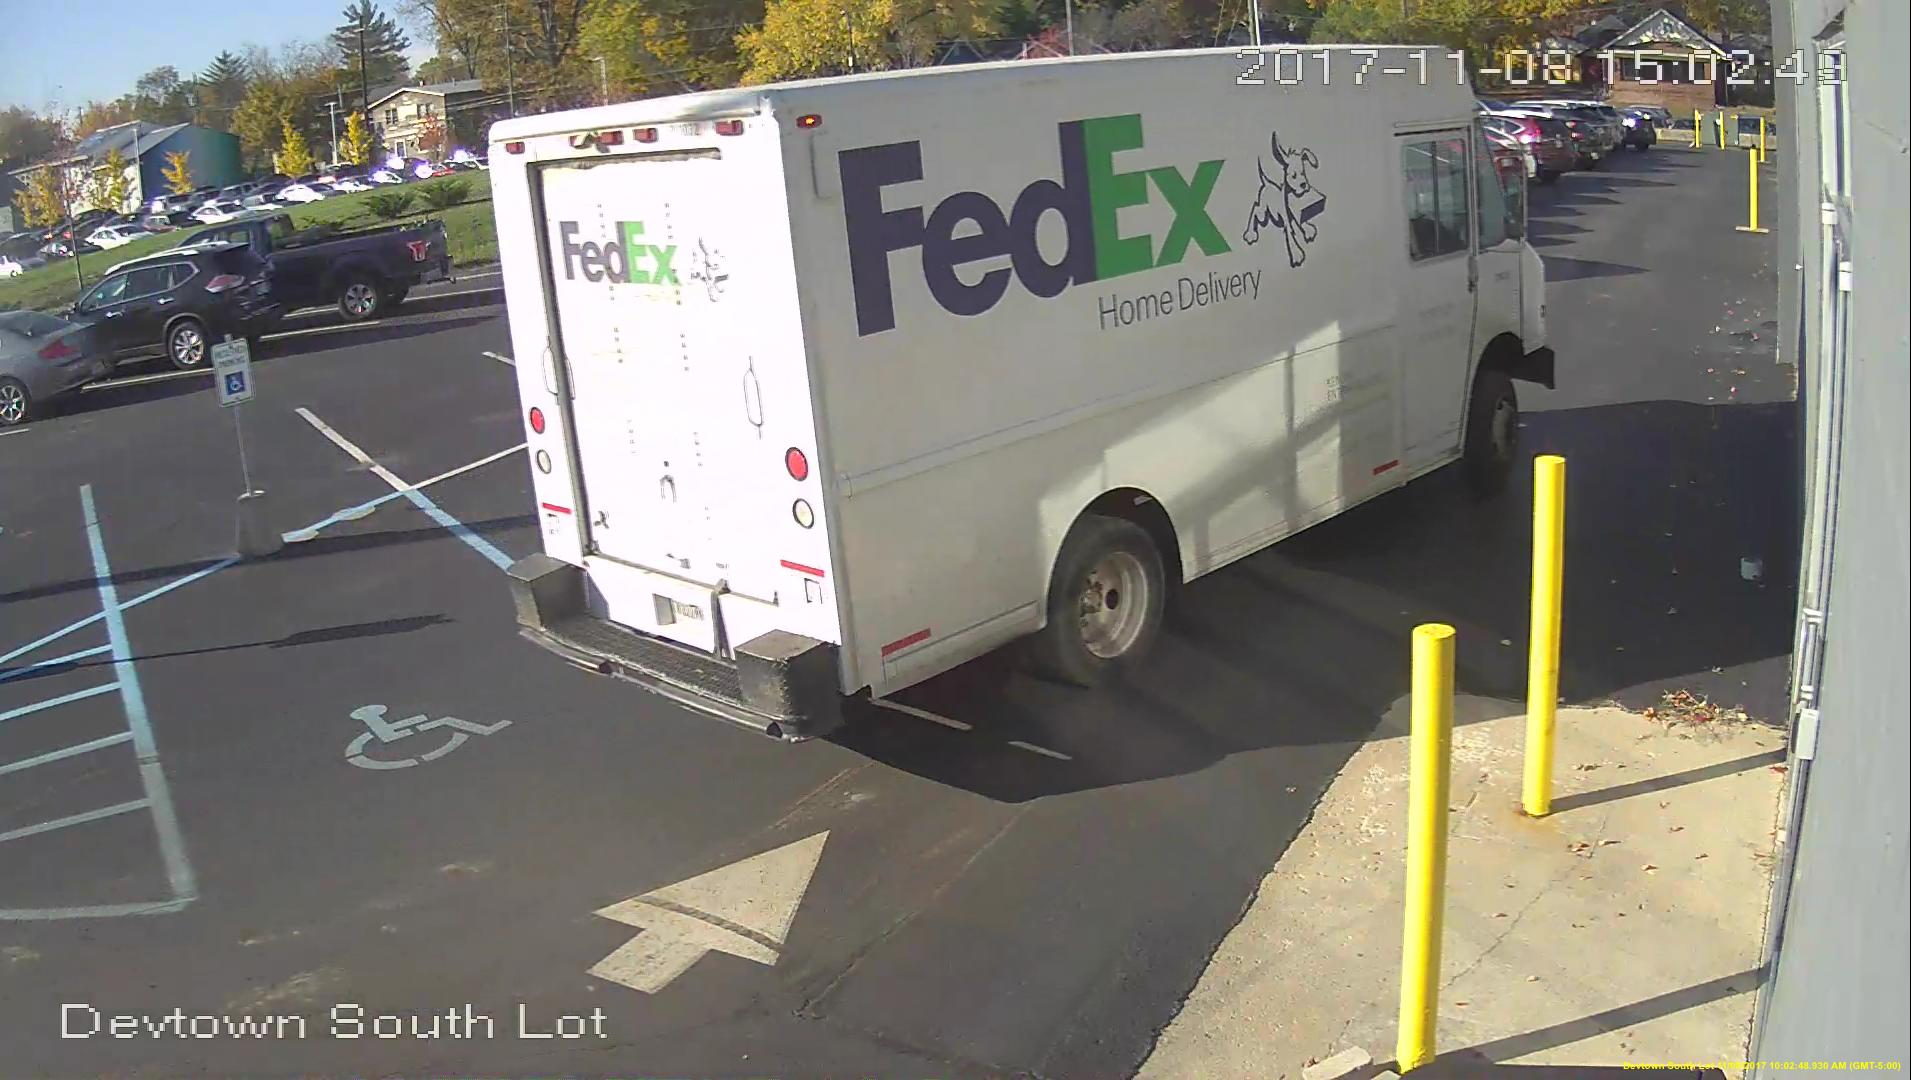fedex_truck: (472, 39, 1567, 748)
